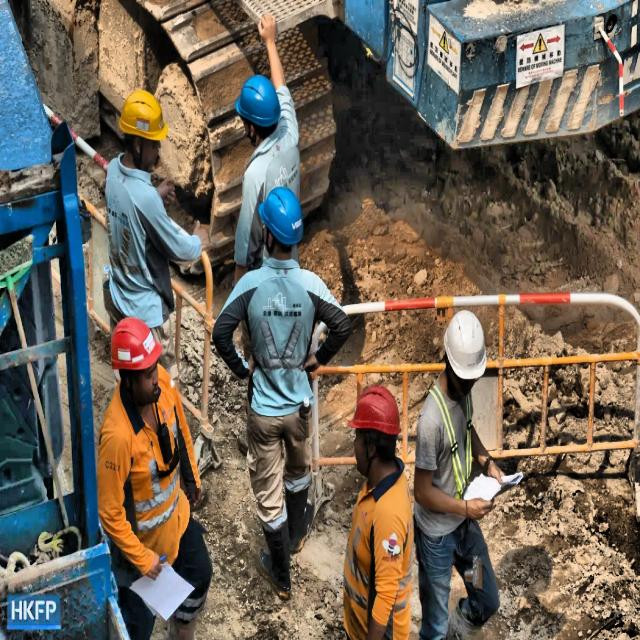safety_helmet: (108, 314, 165, 408), (246, 180, 306, 250), (441, 307, 490, 386), (345, 382, 403, 441), (116, 87, 170, 147), (231, 75, 281, 130)
safety_jacket: (94, 383, 202, 562), (339, 472, 416, 638)
